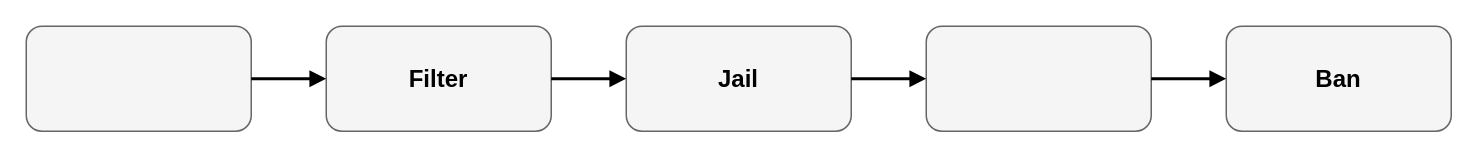
Image size: 1478x158. Some labels were removed from this diagram. The centre of each missing label's shape, as x and y in pixels:
Action: the point at 1038,78
Logquelle: the point at 138,78
